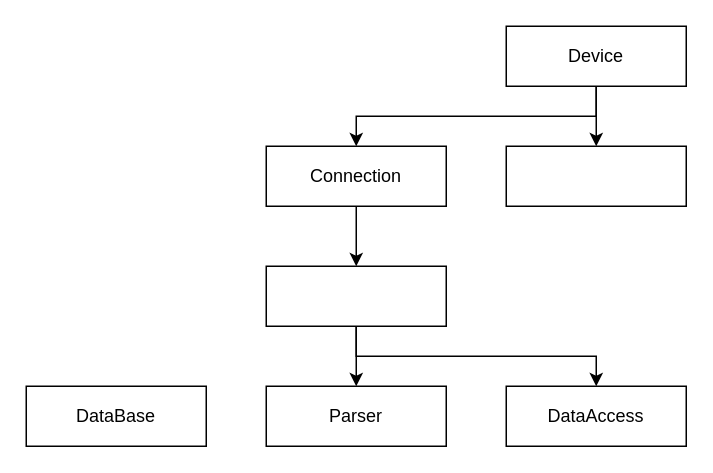
This 713x473 diagram has some shape labels left out. Each missing label, with the centre of its shape:
"DeviceConfig" goes at pixel 595 175.
"Driver" goes at pixel 355 295.
